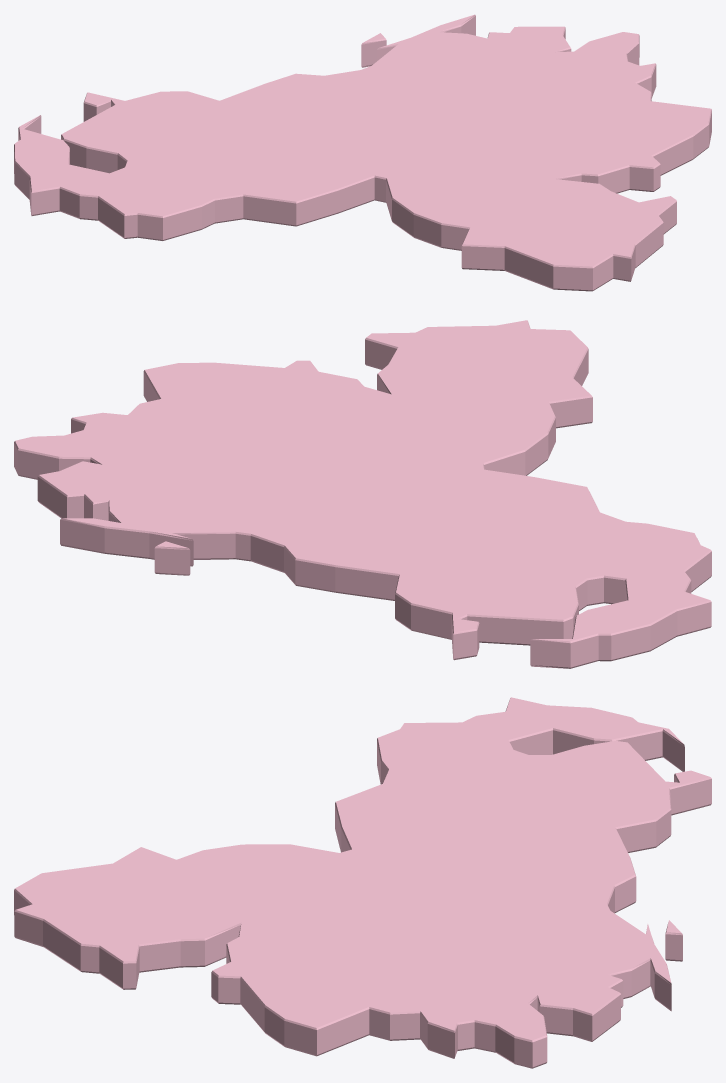
Rendered from VEN.glb.
The picture shows the model from 3 angles, top to bottom: view 1: azimuth 30°, elevation 25°; view 2: azimuth 150°, elevation 25°; view 3: azimuth 270°, elevation 25°; orthographic projection. The views are drawn at different scales.
Bounding box in the file's own units: 1.77 × 0.068 × 1.52.
